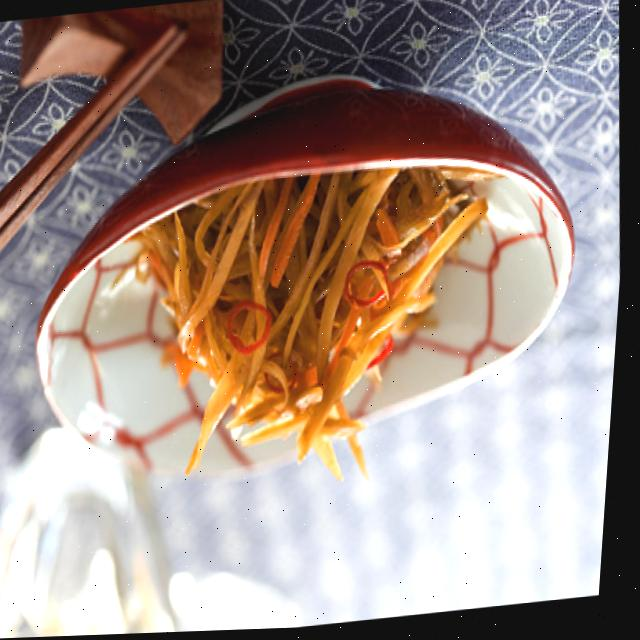蔬菜料理: (127, 165, 508, 488)
